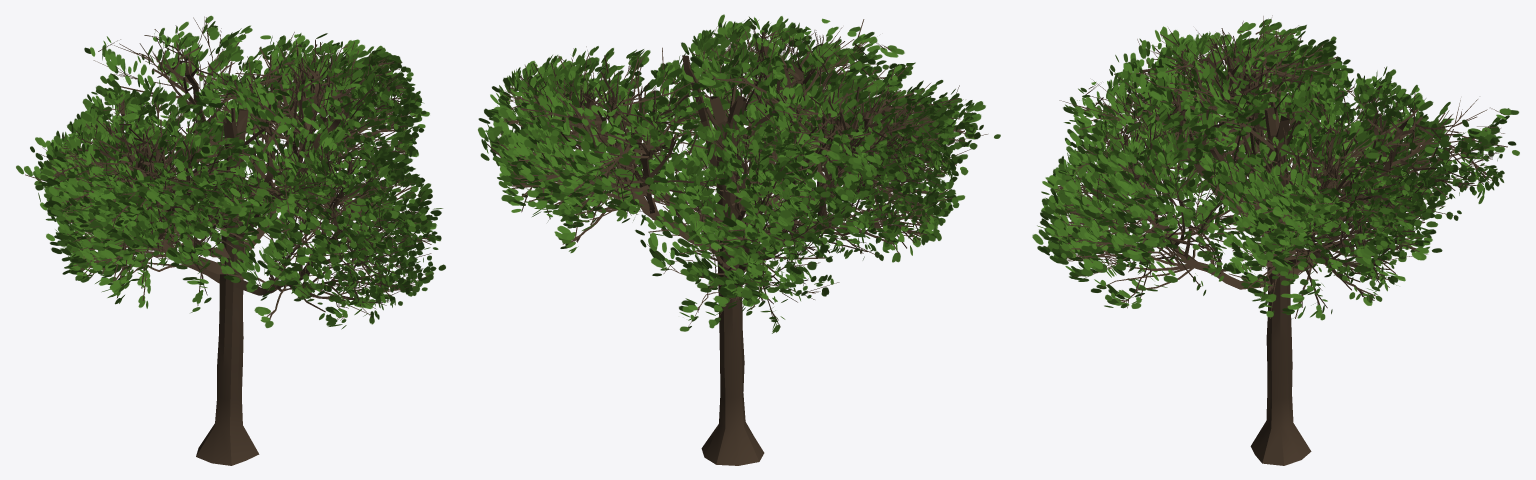
The picture shows the model from 3 angles, left to right: view 1: azimuth 30°, elevation 25°; view 2: azimuth 150°, elevation 25°; view 3: azimuth 270°, elevation 25°; orthographic projection. The views are drawn at different scales.
Visible parts, largest first — view 1: oak 01.001_trunk_Mat.001_0.166; view 2: oak 01.001_trunk_Mat.001_0.166; view 3: oak 01.001_trunk_Mat.001_0.166.
Boxes of the visible parts, x1,y1,x2,y2 form: oak 01.001_trunk_Mat.001_0.166: (16, 15, 445, 465); oak 01.001_trunk_Mat.001_0.166: (478, 14, 1000, 465); oak 01.001_trunk_Mat.001_0.166: (1032, 15, 1519, 465).
Size of the model in its own units: 5.56 by 4.71 by 5.79.
Materials: 2 (1 with a texture image).
